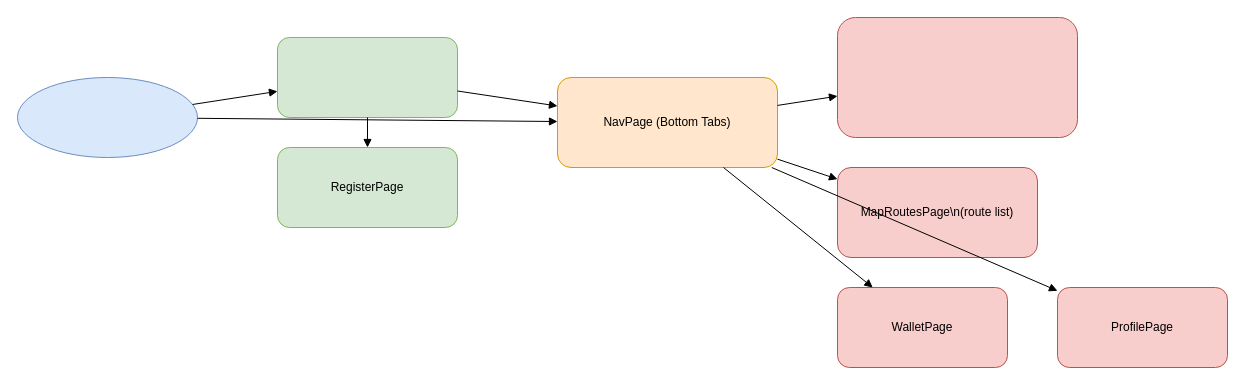
Some shapes in this 1245 by 385 pixel diagram are drawn without their labels. The centre of each missing label's shape, as x and y in pixels:
LoginPage: point 367,77
SplashPage: point 107,117
TrackingPage (Map)\n- nearest bus\n- live marker\n- QR pay: point 957,77
